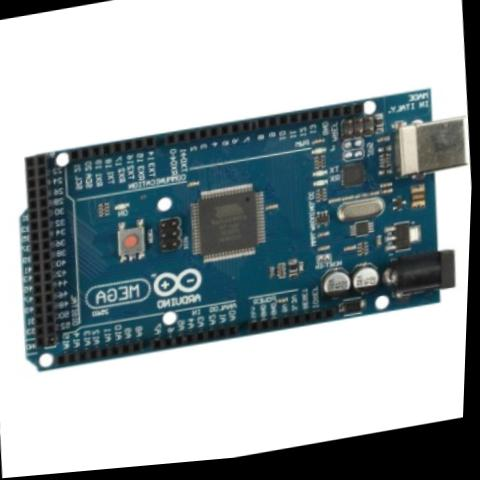Arduino-Mega: (0, 72, 477, 402)
